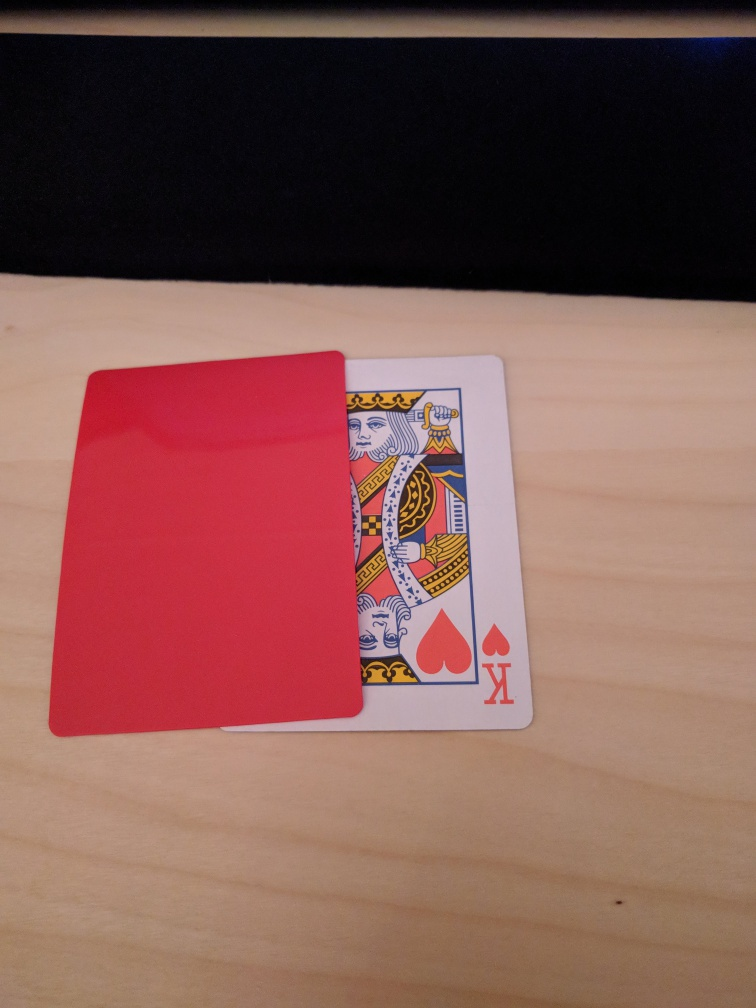king: (220, 352, 535, 732)
